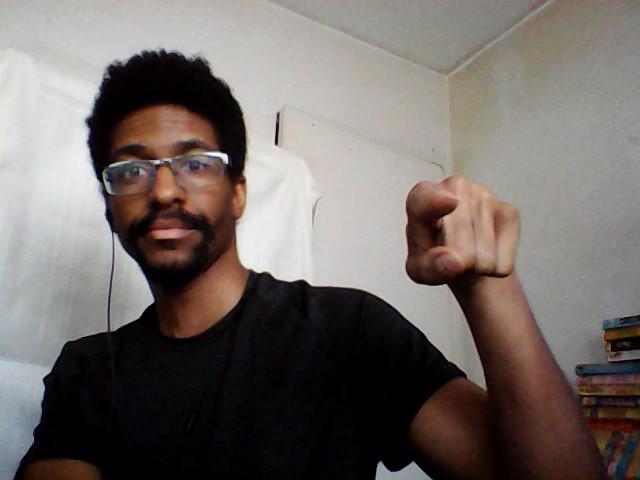z: (401, 171, 528, 289)
